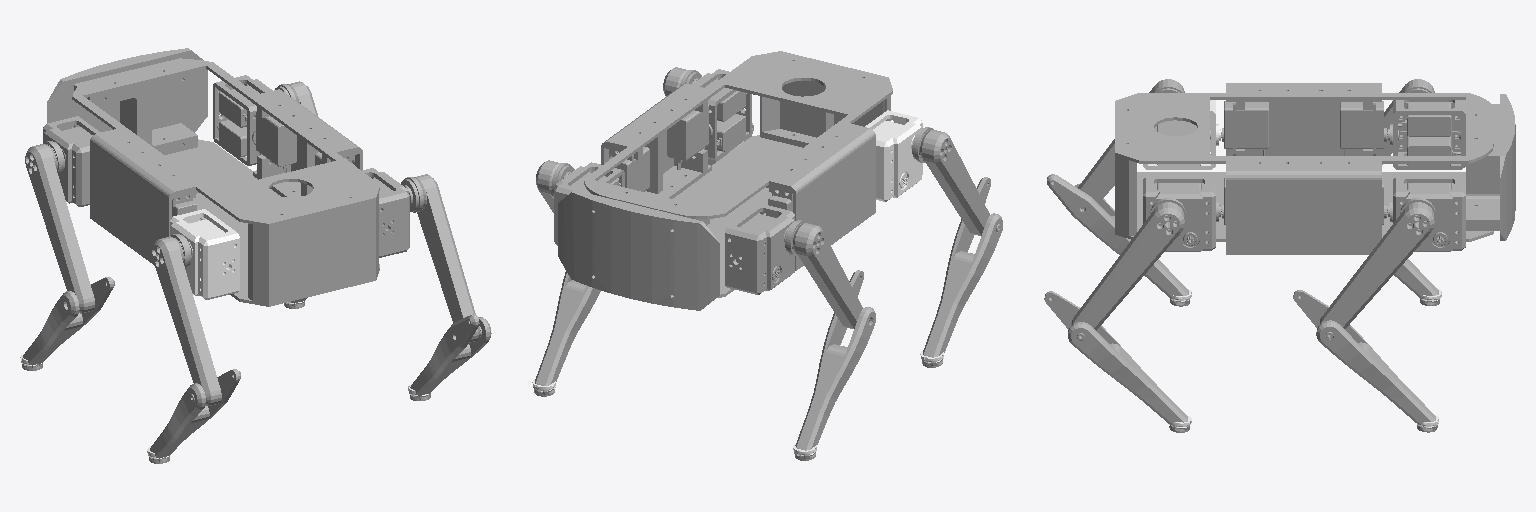
The robot description file, URDF, robot "QuadURDFcad4_0":
<?xml version="1.0" encoding="utf-8"?>
<!-- This URDF was automatically created by SolidWorks to URDF Exporter! Originally created by Stephen Brawner (brawner@gmail.com) 
     Commit Version: 1.6.0-4-g7f85cfe  Build Version: 1.6.7995.38578
     For more information, please see http://wiki.ros.org/sw_urdf_exporter -->
<robot
  name="QuadURDFcad4_0">
  <!-- RE-ZEROED by tools/rezero_urdf.py: all joints = 0 is now the STANDING pose
       (body 0.155 m above the feet, feet shifted -16.0 mm in Y to sit
       under the COM). Source: QuadURDFcad4_0_cadzero.urdf.
       Standing angles in the OLD (CAD) zero that became the new 0 [rad]:
         FL_HipRoll   +0.000000
         FL_ThighP    +0.015402
         FL_KneeP     -0.215931
         FR_HipRoll   +0.000000
         FR_ThighP    +0.019843
         FR_KneeP     -0.210491
         BL_HipRoll   +0.000000
         BL_ThighP    +0.015961
         BL_KneeP     -0.219890
         BR_HipRoll   +0.000000
         BR_ThighP    +0.019518
         BR_KneeP     -0.209732
  -->
  <!-- 2026-10: FL_Hip / BL_Hip inertials fixed (BL_Hip had mass 0 from the CAD export,
       FL_Hip was 0.172 kg vs 0.103 kg on the other three). Both now mirror FR_Hip. -->
  <link
    name="base_link">
    <inertial>
      <origin
        xyz="-2.0613E-05 0.025429 0.033007"
        rpy="0 0 0" />
      <mass
        value="0.91665" />
      <inertia
        ixx="0.0033229"
        ixy="-2.8157E-13"
        ixz="4.4164E-08"
        iyy="0.001526"
        iyz="1.6054E-07"
        izz="0.0040801" />
    </inertial>
    <visual>
      <origin
        xyz="0 0 0"
        rpy="0 0 0" />
      <geometry>
        <mesh
          filename="./meshes/base_link.STL" />
      </geometry>
      <material
        name="">
        <color
          rgba="0.75294 0.75294 0.75294 1" />
      </material>
    </visual>
    <collision>
      <origin
        xyz="0 0 0"
        rpy="0 0 0" />
      <geometry>
        <mesh
          filename="./meshes/base_link.STL" />
      </geometry>
    </collision>
  </link>
  <link
    name="FR_Hip">
    <inertial>
      <origin
        xyz="0.018742 -0.00089079 -0.037245"
        rpy="0 0 0" />
      <mass
        value="0.10265" />
      <inertia
        ixx="4.6806E-05"
        ixy="-6.388E-08"
        ixz="6.1922E-09"
        iyy="4.6337E-05"
        iyz="1.3361E-07"
        izz="2.9038E-05" />
    </inertial>
    <visual>
      <origin
        xyz="0 0 0"
        rpy="0 0 0" />
      <geometry>
        <mesh
          filename="./meshes/FR_Hip.STL" />
      </geometry>
      <material
        name="">
        <color
          rgba="0.75294 0.75294 0.75294 1" />
      </material>
    </visual>
    <collision>
      <origin
        xyz="0 0 0"
        rpy="0 0 0" />
      <geometry>
        <mesh
          filename="./meshes/FR_Hip.STL" />
      </geometry>
    </collision>
  </link>
  <joint
    name="FR_HipRoll"
    type="revolute">
    <origin
      xyz="0.0712 0.07465 0.032"
      rpy="1.5708 -0.046312 0" />
    <parent
      link="base_link" />
    <child
      link="FR_Hip" />
    <axis
      xyz="0 0 1" />
    <limit
      lower="-0.8"
      upper="0.8"
      effort="100"
      velocity="10" />
  </joint>
  <link
    name="FR_Thigh">
    <inertial>
      <origin
        xyz="0.028867 -0.024807 0.036263"
        rpy="0 0 0" />
      <mass
        value="0.07387" />
      <inertia
        ixx="0.000113"
        ixy="-1.8435E-07"
        ixz="9.6654E-08"
        iyy="7.9371E-05"
        iyz="4.7906E-05"
        izz="3.6339E-05" />
    </inertial>
    <visual>
      <origin
        xyz="0 0 0"
        rpy="0 0 0" />
      <geometry>
        <mesh
          filename="./meshes/FR_Thigh.STL" />
      </geometry>
      <material
        name="">
        <color
          rgba="0.75294 0.75294 0.75294 1" />
      </material>
    </visual>
    <collision>
      <origin
        xyz="0 0 0"
        rpy="0 0 0" />
      <geometry>
        <mesh
          filename="./meshes/FR_Thigh.STL" />
      </geometry>
    </collision>
  </link>
  <joint
    name="FR_ThighP"
    type="revolute">
    <origin
      xyz="0.028394 0.013199 -0.0275"
      rpy="0.36733669 -0.016642549 -0.0030916261" />
    <parent
      link="FR_Hip" />
    <child
      link="FR_Thigh" />
    <axis
      xyz="0.99893 -0.046295 0" />
    <limit
      lower="-1.58984"
      upper="1.55016"
      effort="100"
      velocity="10" />
  </joint>
  <link
    name="FR_Knee">
    <inertial>
      <origin
        xyz="0.032646 -0.021314 -0.059579"
        rpy="0 0 0" />
      <mass
        value="0.052932" />
      <inertia
        ixx="9.0349E-05"
        ixy="6.7954E-07"
        ixz="1.9273E-06"
        iyy="8.5052E-05"
        iyz="-2.4711E-05"
        izz="1.3096E-05" />
    </inertial>
    <visual>
      <origin
        xyz="0 0 0"
        rpy="0 0 0" />
      <geometry>
        <mesh
          filename="./meshes/FR_Knee.STL" />
      </geometry>
      <material
        name="">
        <color
          rgba="0.75294 0.75294 0.75294 1" />
      </material>
    </visual>
    <collision>
      <origin
        xyz="0 0 0"
        rpy="0 0 0" />
      <geometry>
        <mesh
          filename="./meshes/FR_Knee.STL" />
      </geometry>
    </collision>
  </link>
  <joint
    name="FR_KneeP"
    type="revolute">
    <origin
      xyz="-0.0026643 -0.060317 0.11513"
      rpy="-0.8638092 0.035222883 -0.016236304" />
    <parent
      link="FR_Thigh" />
    <child
      link="FR_Knee" />
    <axis
      xyz="0.99893 -0.046295 0" />
    <limit
      lower="-2.48951"
      upper="2.91049"
      effort="100"
      velocity="10" />
  </joint>
  <link
    name="FR_Foot">
    <inertial>
      <origin
        xyz="6.8834E-13 0.0072096 4.839E-12"
        rpy="0 0 0" />
      <mass
        value="0.0020924" />
      <inertia
        ixx="6.1241E-08"
        ixy="5.8678E-17"
        ixz="-5.9486E-18"
        iyy="1.0413E-07"
        iyz="1.1962E-17"
        izz="6.1241E-08" />
    </inertial>
    <visual>
      <origin
        xyz="0 0 0"
        rpy="0 0 0" />
      <geometry>
        <mesh
          filename="./meshes/FR_Foot.STL" />
      </geometry>
      <material
        name="">
        <color
          rgba="1 1 1 1" />
      </material>
    </visual>
    <collision>
      <origin
        xyz="0 0 0"
        rpy="0 0 0" />
      <geometry>
        <mesh
          filename="./meshes/FR_Foot.STL" />
      </geometry>
    </collision>
  </link>
  <joint
    name="FR_FixedFoot"
    type="fixed">
    <origin
      xyz="0.032228 -0.046955 -0.134"
      rpy="-0.57637 0.67632 2.7089" />
    <parent
      link="FR_Knee" />
    <child
      link="FR_Foot" />
    <axis
      xyz="0 0 0" />
  </joint>
  <link
    name="FL_Hip">
    <inertial>
      <origin
        xyz="-0.018742 -0.00089079 -0.037245"
        rpy="0 0 0" />
      <mass
        value="0.10265" />
      <inertia
        ixx="4.6806E-05"
        ixy="6.388E-08"
        ixz="-6.1922E-09"
        iyy="4.6337E-05"
        iyz="1.3361E-07"
        izz="2.9038E-05" />
    </inertial>
    <visual>
      <origin
        xyz="0 0 0"
        rpy="0 0 0" />
      <geometry>
        <mesh
          filename="./meshes/FL_Hip.STL" />
      </geometry>
      <material
        name="">
        <color
          rgba="0.752941176470588 0.752941176470588 0.752941176470588 1" />
      </material>
    </visual>
    <collision>
      <origin
        xyz="0 0 0"
        rpy="0 0 0" />
      <geometry>
        <mesh
          filename="./meshes/FL_Hip.STL" />
      </geometry>
    </collision>
  </link>
  <joint
    name="FL_HipRoll"
    type="revolute">
    <origin
      xyz="-0.0712 0.07465 0.032"
      rpy="1.5708 -0.29317 0" />
    <parent
      link="base_link" />
    <child
      link="FL_Hip" />
    <axis
      xyz="0 0 1" />
    <limit
      lower="-0.8"
      upper="0.8"
      effort="100"
      velocity="10" />
  </joint>
  <link
    name="FL_Thigh">
    <inertial>
      <origin
        xyz="-0.0260259605743596 -0.00338845809713966 0.04316447009552"
        rpy="0 0 0" />
      <mass
        value="0.0738699894705602" />
      <inertia
        ixx="0.00011268013818453"
        ixy="-7.92023988595693E-07"
        ixz="3.2542649612131E-06"
        iyy="0.000110547518113796"
        iyz="2.04285472598613E-06"
        izz="5.47758935427018E-06" />
    </inertial>
    <visual>
      <origin
        xyz="0 0 0"
        rpy="0 0 0" />
      <geometry>
        <mesh
          filename="./meshes/FL_Thigh.STL" />
      </geometry>
      <material
        name="">
        <color
          rgba="0.752941176470588 0.752941176470588 0.752941176470588 1" />
      </material>
    </visual>
    <collision>
      <origin
        xyz="0 0 0"
        rpy="0 0 0" />
      <geometry>
        <mesh
          filename="./meshes/FL_Thigh.STL" />
      </geometry>
    </collision>
  </link>
  <joint
    name="FL_ThighP"
    type="revolute">
    <origin
      xyz="-0.026043 0.02927 -0.020036"
      rpy="0.88832364 -0.23010405 -0.10987385" />
    <parent
      link="FL_Hip" />
    <child
      link="FL_Thigh" />
    <axis
      xyz="0.95733 -0.28899 0" />
    <limit
      lower="-1.5854"
      upper="1.5546"
      effort="100"
      velocity="10" />
  </joint>
  <link
    name="FL_Knee">
    <inertial>
      <origin
        xyz="-0.0433866184082816 -0.0380067135388353 -0.0187554443012353"
        rpy="0 0 0" />
      <mass
        value="0.052931885613327" />
      <inertia
        ixx="8.25131046424824E-05"
        ixy="-2.27367995529977E-05"
        ixz="-9.68321588698199E-06"
        iyy="2.48123765354961E-05"
        iyz="-2.79606972048559E-05"
        izz="8.11711074631011E-05" />
    </inertial>
    <visual>
      <origin
        xyz="0 0 0"
        rpy="0 0 0" />
      <geometry>
        <mesh
          filename="./meshes/FL_Knee.STL" />
      </geometry>
      <material
        name="">
        <color
          rgba="0.752941176470588 0.752941176470588 0.752941176470588 1" />
      </material>
    </visual>
    <collision>
      <origin
        xyz="0 0 0"
        rpy="0 0 0" />
      <geometry>
        <mesh
          filename="./meshes/FL_Knee.STL" />
      </geometry>
    </collision>
  </link>
  <joint
    name="FL_KneeP"
    type="revolute">
    <origin
      xyz="-0.00063197 -0.012094 0.12998"
      rpy="-0.4988094 0.14341904 -0.036588569" />
    <parent
      link="FL_Thigh" />
    <child
      link="FL_Knee" />
    <axis
      xyz="0.95733 -0.28899 0" />
    <limit
      lower="-2.48407"
      upper="2.91593"
      effort="100"
      velocity="10" />
  </joint>
  <link
    name="FL_Foot">
    <inertial>
      <origin
        xyz="9.57497969800158E-13 0.00607941032363163 4.56151783012615E-12"
        rpy="0 0 0" />
      <mass
        value="0.00209238279090247" />
      <inertia
        ixx="6.12405525754502E-08"
        ixy="3.86474506888219E-17"
        ixz="-5.41015550888964E-18"
        iyy="1.04133282630352E-07"
        iyz="9.31030095573533E-18"
        izz="6.12405525999941E-08" />
    </inertial>
    <visual>
      <origin
        xyz="0 0 0"
        rpy="0 0 0" />
      <geometry>
        <mesh
          filename="./meshes/FL_Foot.STL" />
      </geometry>
      <material
        name="">
        <color
          rgba="1 1 1 1" />
      </material>
    </visual>
    <collision>
      <origin
        xyz="0 0 0"
        rpy="0 0 0" />
      <geometry>
        <mesh
          filename="./meshes/FL_Foot.STL" />
      </geometry>
    </collision>
  </link>
  <joint
    name="FL_FixedFoot"
    type="fixed">
    <origin
      xyz="-0.065885 -0.10978 -0.04453"
      rpy="1.5708 1.111 -1.864" />
    <parent
      link="FL_Knee" />
    <child
      link="FL_Foot" />
    <axis
      xyz="0 1 0" />
  </joint>
  <link
    name="BR_Hip">
    <inertial>
      <origin
        xyz="0.0187421369497242 -0.000890794993457733 0.0372446758134174"
        rpy="0 0 0" />
      <mass
        value="0.102649597706034" />
      <inertia
        ixx="4.68060945087987E-05"
        ixy="-6.38800472159297E-08"
        ixz="6.19222478128402E-09"
        iyy="4.63365511378159E-05"
        iyz="1.33610213967634E-07"
        izz="2.9038421287295E-05" />
    </inertial>
    <visual>
      <origin
        xyz="0 0 0"
        rpy="0 0 0" />
      <geometry>
        <mesh
          filename="./meshes/BR_Hip.STL" />
      </geometry>
      <material
        name="">
        <color
          rgba="0.752941176470588 0.752941176470588 0.752941176470588 1" />
      </material>
    </visual>
    <collision>
      <origin
        xyz="0 0 0"
        rpy="0 0 0" />
      <geometry>
        <mesh
          filename="./meshes/BR_Hip.STL" />
      </geometry>
    </collision>
  </link>
  <joint
    name="BR_HipRoll"
    type="revolute">
    <origin
      xyz="0.0712 -0.07465 0.032"
      rpy="1.5708 -0.046312 0" />
    <parent
      link="base_link" />
    <child
      link="BR_Hip" />
    <axis
      xyz="0 0 1" />
    <limit
      lower="-0.8"
      upper="0.8"
      effort="100"
      velocity="10" />
  </joint>
  <link
    name="BR_Thigh">
    <inertial>
      <origin
        xyz="0.028370145775199 -0.0352671862538255 0.0267263808727637"
        rpy="0 0 0" />
      <mass
        value="0.0738699894705602" />
      <inertia
        ixx="0.000112979472667595"
        ixy="-1.13822228967576E-06"
        ixz="8.00683043038441E-07"
        iyy="4.5570875479595E-05"
        iyz="5.10475465444886E-05"
        izz="7.01548975054064E-05" />
    </inertial>
    <visual>
      <origin
        xyz="0 0 0"
        rpy="0 0 0" />
      <geometry>
        <mesh
          filename="./meshes/BR_Thigh.STL" />
      </geometry>
      <material
        name="">
        <color
          rgba="0.752941176470588 0.752941176470588 0.752941176470588 1" />
      </material>
    </visual>
    <collision>
      <origin
        xyz="0 0 0"
        rpy="0 0 0" />
      <geometry>
        <mesh
          filename="./meshes/BR_Thigh.STL" />
      </geometry>
    </collision>
  </link>
  <joint
    name="BR_ThighP"
    type="revolute">
    <origin
      xyz="0.028406 0.013199 0.0475"
      rpy="0.037839016 -0.0017531988 -2.537829e-05" />
    <parent
      link="BR_Hip" />
    <child
      link="BR_Thigh" />
    <axis
      xyz="0.99893 -0.046295 0" />
    <limit
      lower="-1.58952"
      upper="1.55048"
      effort="100"
      velocity="10" />
  </joint>
  <link
    name="BR_Knee">
    <inertial>
      <origin
        xyz="0.034047303079851 0.00635017845747216 -0.0622754415794301"
        rpy="0 0 0" />
      <mass
        value="0.0529318847832179" />
      <inertia
        ixx="9.02302778456741E-05"
        ixy="-4.67479236705131E-07"
        ixz="3.74944322493672E-06"
        iyy="9.08848554221293E-05"
        iyz="1.25153969678517E-05"
        izz="7.38145374074031E-06" />
    </inertial>
    <visual>
      <origin
        xyz="0 0 0"
        rpy="0 0 0" />
      <geometry>
        <mesh
          filename="./meshes/BR_Knee.STL" />
      </geometry>
      <material
        name="">
        <color
          rgba="0.752941176470588 0.752941176470588 0.752941176470588 1" />
      </material>
    </visual>
    <collision>
      <origin
        xyz="0 0 0"
        rpy="0 0 0" />
      <geometry>
        <mesh
          filename="./meshes/BR_Knee.STL" />
      </geometry>
    </collision>
  </link>
  <joint
    name="BR_KneeP"
    type="revolute">
    <origin
      xyz="-0.0043694 -0.094278 0.089401"
      rpy="-0.98062198 0.03848694 -0.020545068" />
    <parent
      link="BR_Thigh" />
    <child
      link="BR_Knee" />
    <axis
      xyz="0.99893 -0.046295 0" />
    <limit
      lower="-2.49027"
      upper="2.90973"
      effort="100"
      velocity="10" />
  </joint>
  <link
    name="BR_Foot">
    <inertial>
      <origin
        xyz="6.50465792340071E-13 0.00713995307960615 4.93266538725834E-12"
        rpy="0 0 0" />
      <mass
        value="0.00209238279086661" />
      <inertia
        ixx="6.12405525503909E-08"
        ixy="6.28940876821024E-17"
        ixz="-5.82978697753898E-18"
        iyy="1.04133282650521E-07"
        iyz="1.07692993141218E-17"
        izz="6.1240552577677E-08" />
    </inertial>
    <visual>
      <origin
        xyz="0 0 0"
        rpy="0 0 0" />
      <geometry>
        <mesh
          filename="./meshes/BR_Foot.STL" />
      </geometry>
      <material
        name="">
        <color
          rgba="1 1 1 1" />
      </material>
    </visual>
    <collision>
      <origin
        xyz="0 0 0"
        rpy="0 0 0" />
      <geometry>
        <mesh
          filename="./meshes/BR_Foot.STL" />
      </geometry>
    </collision>
  </link>
  <joint
    name="BR_FixedFoot"
    type="fixed">
    <origin
      xyz="0.035233 0.015319 -0.14052"
      rpy="-0.97587 0.36183 2.6133" />
    <parent
      link="BR_Knee" />
    <child
      link="BR_Foot" />
    <axis
      xyz="0 0 0" />
  </joint>
  <link
    name="BL_Hip">
    <inertial>
      <origin
        xyz="-0.018742 -0.00089079 0.037245"
        rpy="0 0 0" />
      <mass
        value="0.10265" />
      <inertia
        ixx="4.6806E-05"
        ixy="6.388E-08"
        ixz="6.1922E-09"
        iyy="4.6337E-05"
        iyz="-1.3361E-07"
        izz="2.9038E-05" />
    </inertial>
    <visual>
      <origin
        xyz="0 0 0"
        rpy="0 0 0" />
      <geometry>
        <mesh
          filename="./meshes/BL_Hip.STL" />
      </geometry>
      <material
        name="">
        <color
          rgba="1 1 1 1" />
      </material>
    </visual>
    <collision>
      <origin
        xyz="0 0 0"
        rpy="0 0 0" />
      <geometry>
        <mesh
          filename="./meshes/BL_Hip.STL" />
      </geometry>
    </collision>
  </link>
  <joint
    name="BL_HipRoll"
    type="revolute">
    <origin
      xyz="-0.0712 -0.07465 0.032"
      rpy="1.5708 -0.29317 0" />
    <parent
      link="base_link" />
    <child
      link="BL_Hip" />
    <axis
      xyz="0 0 1" />
    <limit
      lower="-0.8"
      upper="0.8"
      effort="100"
      velocity="10" />
  </joint>
  <link
    name="BL_Thigh">
    <inertial>
      <origin
        xyz="-0.0401485517512794 -0.0123026202415094 0.0409140602523934"
        rpy="0 0 0" />
      <mass
        value="0.0738699894705603" />
      <inertia
        ixx="0.000111382207391609"
        ixy="-4.3536792037388E-06"
        ixz="1.14816806600571E-05"
        iyy="0.000101193552166053"
        iyz="2.97531041355298E-05"
        izz="1.61294860949336E-05" />
    </inertial>
    <visual>
      <origin
        xyz="0 0 0"
        rpy="0 0 0" />
      <geometry>
        <mesh
          filename="./meshes/BL_Thigh.STL" />
      </geometry>
      <material
        name="">
        <color
          rgba="0.752941176470588 0.752941176470588 0.752941176470588 1" />
      </material>
    </visual>
    <collision>
      <origin
        xyz="0 0 0"
        rpy="0 0 0" />
      <geometry>
        <mesh
          filename="./meshes/BL_Thigh.STL" />
      </geometry>
    </collision>
  </link>
  <joint
    name="BL_ThighP"
    type="revolute">
    <origin
      xyz="-0.015009 0.027951 0.052876"
      rpy="0.5919134 -0.16685793 -0.050985427" />
    <parent
      link="BL_Hip" />
    <child
      link="BL_Thigh" />
    <axis
      xyz="0.95733 -0.28899 0" />
    <limit
      lower="-1.58596"
      upper="1.55404"
      effort="100"
      velocity="10" />
  </joint>
  <link
    name="BL_Knee">
    <inertial>
      <origin
        xyz="-0.0483926060483983 -0.0264527089086648 0.0318139855150891"
        rpy="0 0 0" />
      <mass
        value="0.0533765936947715" />
      <inertia
        ixx="8.46523120191437E-05"
        ixy="-1.61137893245953E-05"
        ixz="1.4197102579737E-05"
        iyy="4.52352455846829E-05"
        iyz="4.0167791508092E-05"
        izz="5.86830737602521E-05" />
    </inertial>
    <visual>
      <origin
        xyz="0 0 0"
        rpy="0 0 0" />
      <geometry>
        <mesh
          filename="./meshes/BL_Knee.STL" />
      </geometry>
      <material
        name="">
        <color
          rgba="0.752941176470588 0.752941176470588 0.752941176470588 1" />
      </material>
    </visual>
    <collision>
      <origin
        xyz="0 0 0"
        rpy="0 0 0" />
      <geometry>
        <mesh
          filename="./meshes/BL_Knee.STL" />
      </geometry>
    </collision>
  </link>
  <joint
    name="BL_KneeP"
    type="revolute">
    <origin
      xyz="-0.014779 -0.048958 0.12318"
      rpy="0.80239353 -0.21374487 -0.090967792" />
    <parent
      link="BL_Thigh" />
    <child
      link="BL_Knee" />
    <axis
      xyz="0.95733 -0.28899 0" />
    <limit
      lower="-2.48011"
      upper="2.91989"
      effort="100"
      velocity="10" />
  </joint>
  <link
    name="BL_Foot">
    <inertial>
      <origin
        xyz="9.85850290291523E-13 0.0062325257086501 4.54761228674272E-12"
        rpy="0 0 0" />
      <mass
        value="0.00209238279090277" />
      <inertia
        ixx="6.12405525768046E-08"
        ixy="3.73962432322038E-17"
        ixz="-5.28707915431692E-18"
        iyy="1.0413328262934E-07"
        iyz="8.49207274212457E-18"
        izz="6.12405526005899E-08" />
    </inertial>
    <visual>
      <origin
        xyz="0 0 0"
        rpy="0 0 0" />
      <geometry>
        <mesh
          filename="./meshes/BL_Foot.STL" />
      </geometry>
      <material
        name="">
        <color
          rgba="1 1 1 1" />
      </material>
    </visual>
    <collision>
      <origin
        xyz="0 0 0"
        rpy="0 0 0" />
      <geometry>
        <mesh
          filename="./meshes/BL_Foot.STL" />
      </geometry>
    </collision>
  </link>
  <joint
    name="BL_FixedFoot"
    type="fixed">
    <origin
      xyz="-0.066486 -0.083899 0.084202"
      rpy="1.5745 0.063287 -1.8061" />
    <parent
      link="BL_Knee" />
    <child
      link="BL_Foot" />
    <axis
      xyz="0 0 0" />
  </joint>
</robot>

--- What the picture shows (computed from the rendered views, not written in the file) ---
Views: 3 orthographic renders of the robot side by side, from view 1: azimuth 30°, elevation 25°; view 2: azimuth 150°, elevation 25°; view 3: azimuth 270°, elevation 25°.
Robot: QuadURDFcad4_0 — 17 links, 16 joints (12 revolute, 4 fixed); root link base_link; default pose: all joints at 0.
Links seen in each view (by area): view 1: base_link, FL_Thigh, BL_Thigh, BL_Hip, BR_Thigh, FR_Hip, BR_Knee, FL_Hip, BL_Knee, FL_Knee, BR_Hip, FR_Thigh; view 2: base_link, FL_Hip, BL_Knee, FL_Knee, FL_Thigh, BL_Thigh, BL_Hip, FR_Knee, BR_Hip, FR_Hip, FR_Thigh, BR_Thigh; view 3: base_link, BR_Thigh, FR_Thigh, FL_Hip, BR_Knee, FR_Knee, FR_Hip, BR_Hip, BL_Knee, BL_Thigh, BL_Hip, FL_Knee (+1 smaller).
Boxes of the visible links, box(x1,y1,x2,y2) form: base_link: box(47, 48, 379, 306); FL_Thigh: box(25, 141, 94, 313); BL_Thigh: box(152, 234, 221, 405); BL_Hip: box(170, 209, 239, 299); BR_Thigh: box(401, 174, 479, 342); FR_Hip: box(213, 75, 272, 165); BR_Knee: box(410, 314, 491, 400); FL_Hip: box(43, 116, 100, 206); BL_Knee: box(149, 369, 240, 463); FL_Knee: box(22, 277, 114, 370); BR_Hip: box(362, 168, 409, 257); FR_Thigh: box(275, 81, 317, 116); base_link: box(558, 51, 892, 310); FL_Hip: box(725, 203, 794, 294); BL_Knee: box(921, 177, 1002, 367); FL_Knee: box(794, 270, 875, 460); FL_Thigh: box(785, 220, 862, 328); BL_Thigh: box(912, 127, 989, 235); BL_Hip: box(865, 110, 922, 201); FR_Knee: box(533, 271, 600, 396); BR_Hip: box(692, 69, 751, 160); FR_Hip: box(554, 162, 624, 245); FR_Thigh: box(536, 160, 574, 212); BR_Thigh: box(663, 67, 728, 165); base_link: box(1115, 83, 1515, 254); BR_Thigh: box(1071, 198, 1185, 330); FR_Thigh: box(1320, 198, 1435, 328); FL_Hip: box(1388, 100, 1465, 169); BR_Knee: box(1044, 291, 1189, 432); FR_Knee: box(1293, 290, 1437, 432); FR_Hip: box(1388, 177, 1465, 251); BR_Hip: box(1143, 177, 1220, 251); BL_Knee: box(1047, 174, 1189, 306); BL_Thigh: box(1078, 79, 1184, 203); BL_Hip: box(1143, 100, 1220, 169); FL_Knee: box(1394, 259, 1439, 305).
Bounding box of the posed robot: 0.3011 × 0.4227 × 0.2393 m (x, y, z).
17 mesh visuals loaded from 17 distinct referenced files (17 binary STL).
